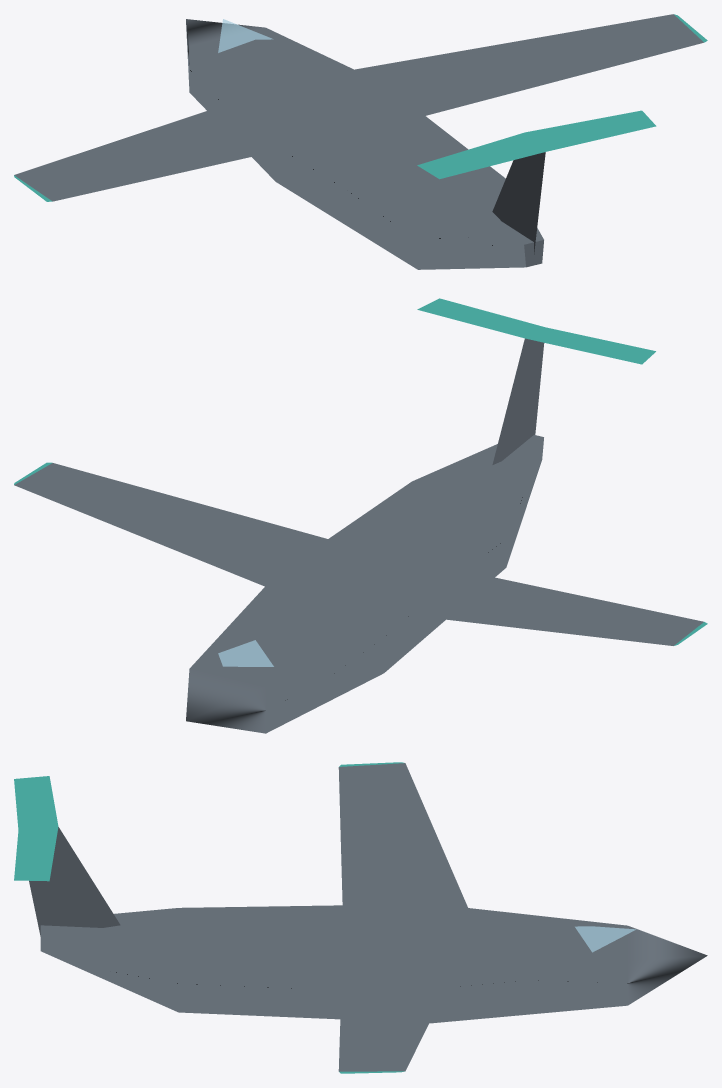
The model's file is FrostFreighter.obj.
3 renders of one model, top to bottom at view 1: azimuth 30°, elevation 25°; view 2: azimuth 150°, elevation 25°; view 3: azimuth 270°, elevation 25°, orthographic. The views are drawn at different scales.
Parts seen in each view (by area): view 1: FrostFreighter_Complete; view 2: FrostFreighter_Complete; view 3: FrostFreighter_Complete.
Boxes of the visible parts, box(x1,y1,x2,y2) form: FrostFreighter_Complete: box(14, 14, 707, 269); FrostFreighter_Complete: box(14, 298, 707, 733); FrostFreighter_Complete: box(14, 762, 707, 1073).
Size of the model in its own units: 16.5 by 4.25 by 15.6.
